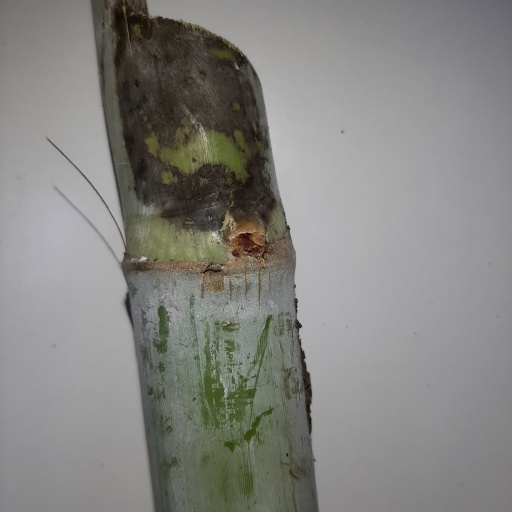Damage_Bud: (225, 213, 260, 259)
